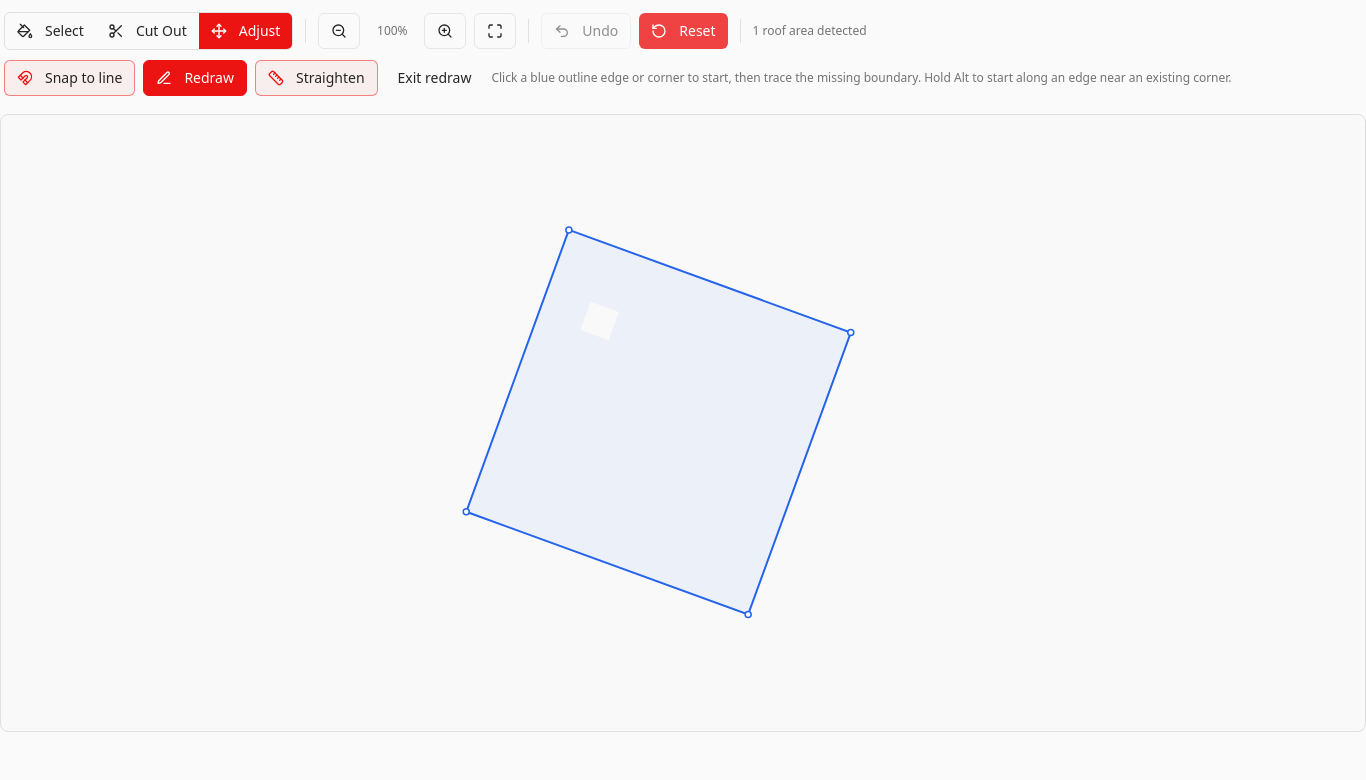
Test: discards drafts on Escape, switching tools, external geometry changes, and pointer cancellation
Earlier steps of the test are not shown.
Later steps or results of the test are not shown.
Press the mouse on the icon with test id "polyline-redraw-overlay" at (683, 423), box top-left (308, 123), bottom-right (1058, 723)
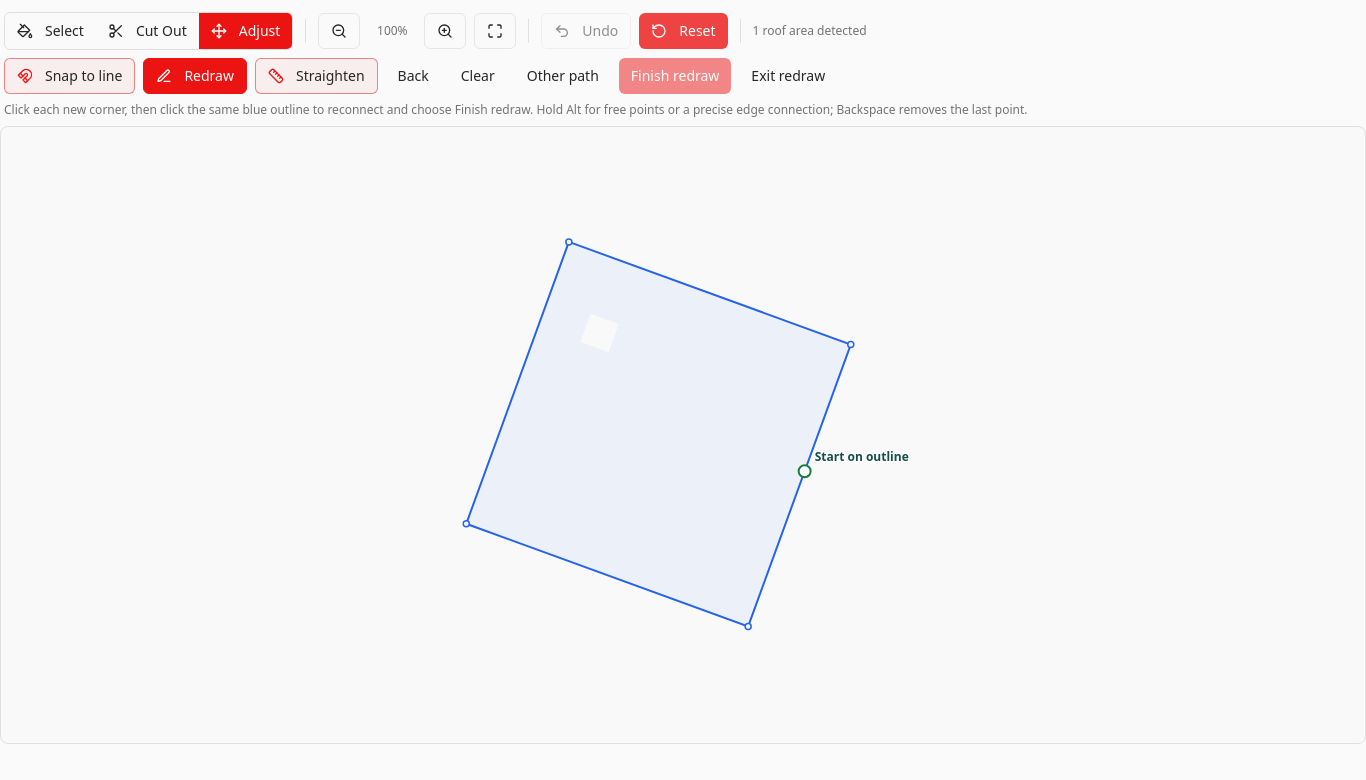
Press the mouse on the icon with test id "polyline-redraw-overlay" at (683, 435), box top-left (308, 135), bottom-right (1058, 735)
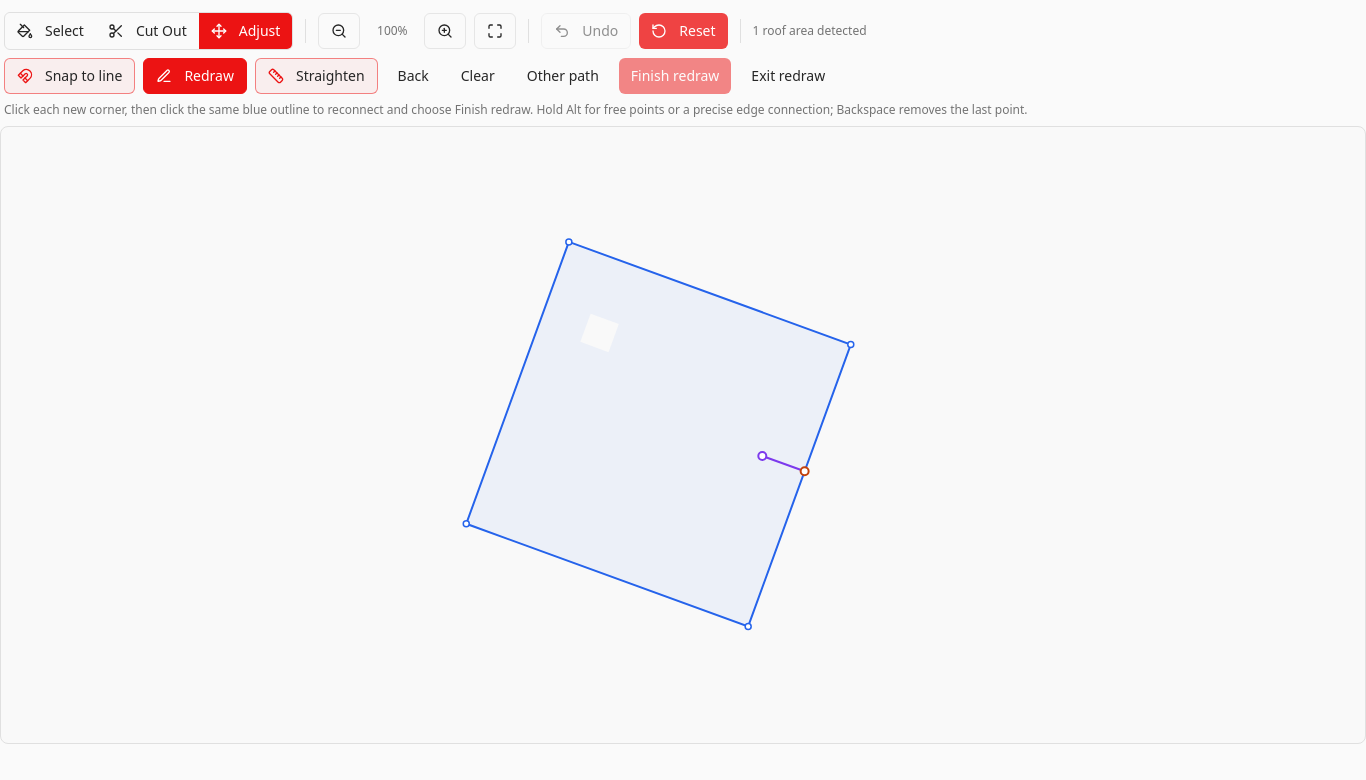
Click the button "Snap to line".
click(70, 76)  # box top-left (4, 58), bottom-right (135, 94)
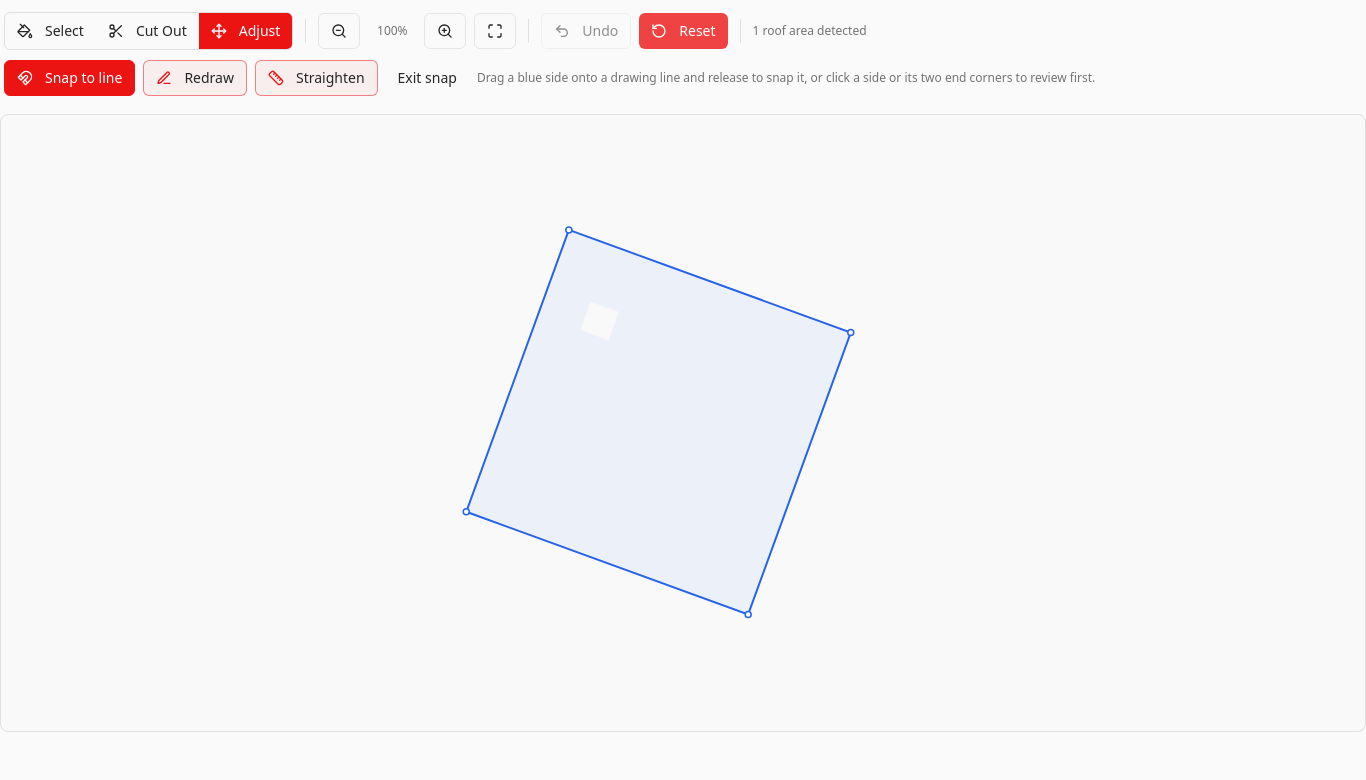
Check: the icon with test id "polyline-redraw-overlay" is gone
Check: the icon with test id "side-fit-overlay" is shown, box top-left (308, 123), bottom-right (1058, 723)
Click the button "Redraw".
click(195, 78)  # box top-left (143, 60), bottom-right (247, 96)
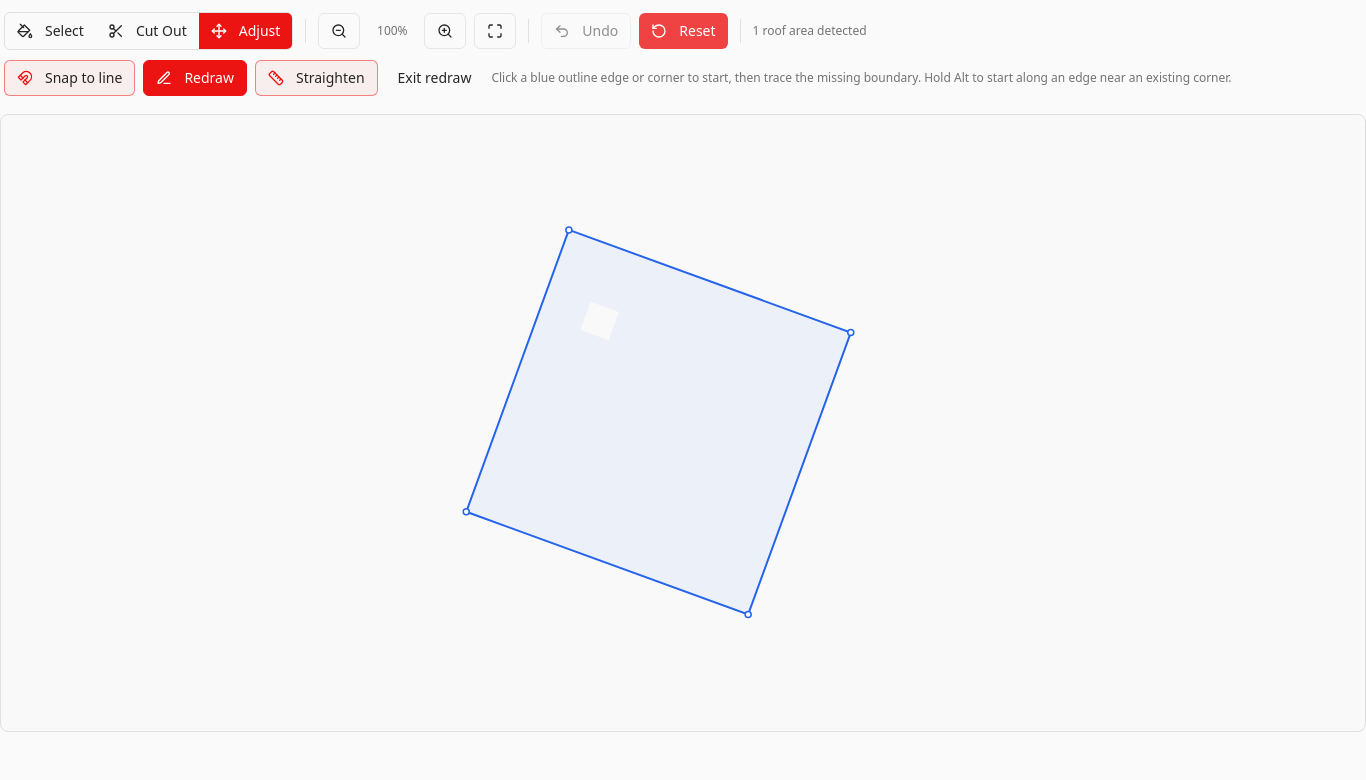
Press the mouse on the icon with test id "polyline-redraw-overlay" at (683, 423), box top-left (308, 123), bottom-right (1058, 723)
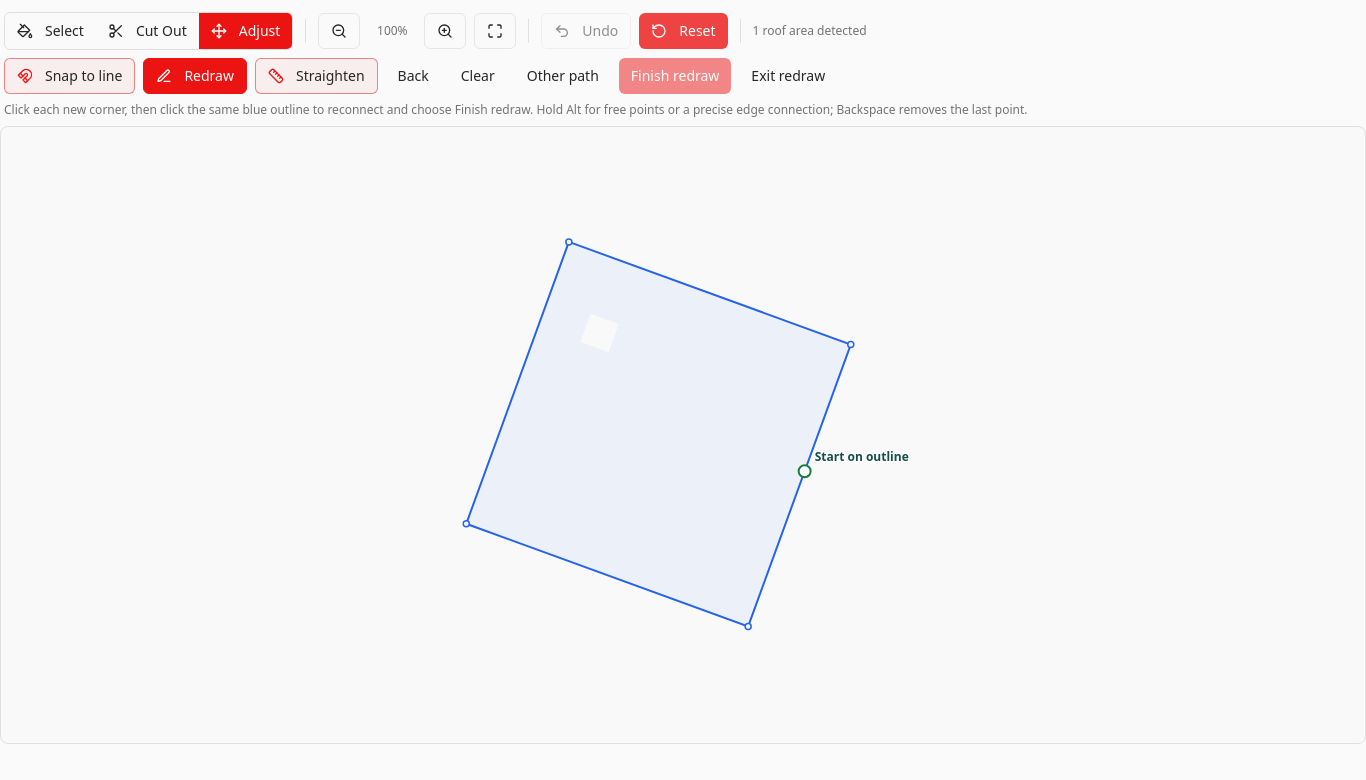
Press the mouse on the icon with test id "polyline-redraw-overlay" at (683, 435), box top-left (308, 135), bottom-right (1058, 735)
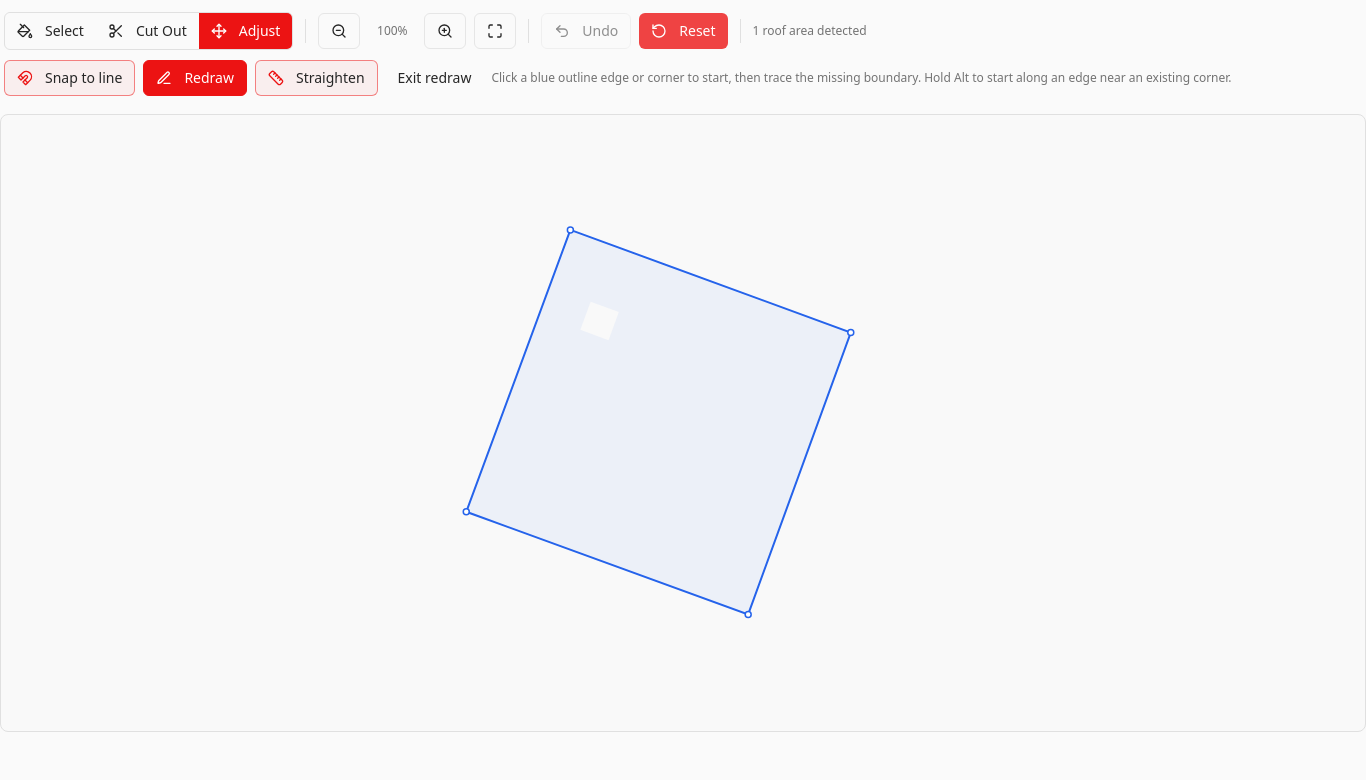
Check: the icon with test id "polyline-redraw-overlay" is shown, box top-left (308, 123), bottom-right (1058, 723)
